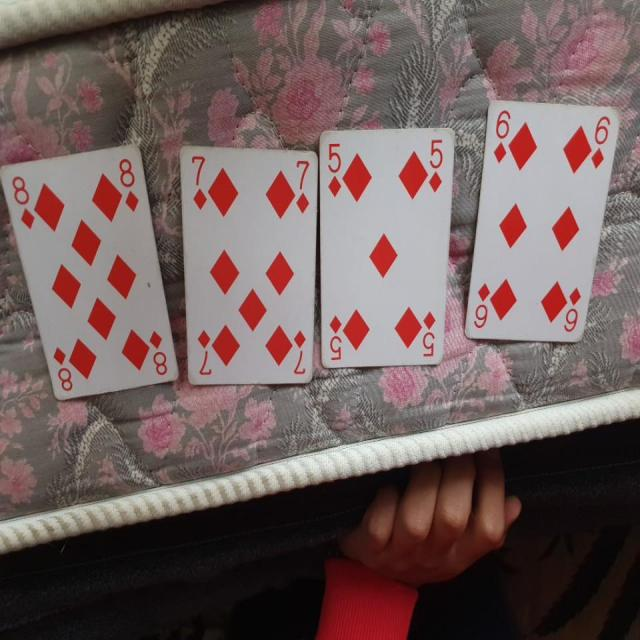5 Diamonds: (316, 125, 461, 370)
6 Diamonds: (462, 100, 620, 342)
7 Diamonds: (180, 145, 318, 388)
8 Diamonds: (1, 143, 180, 400)
